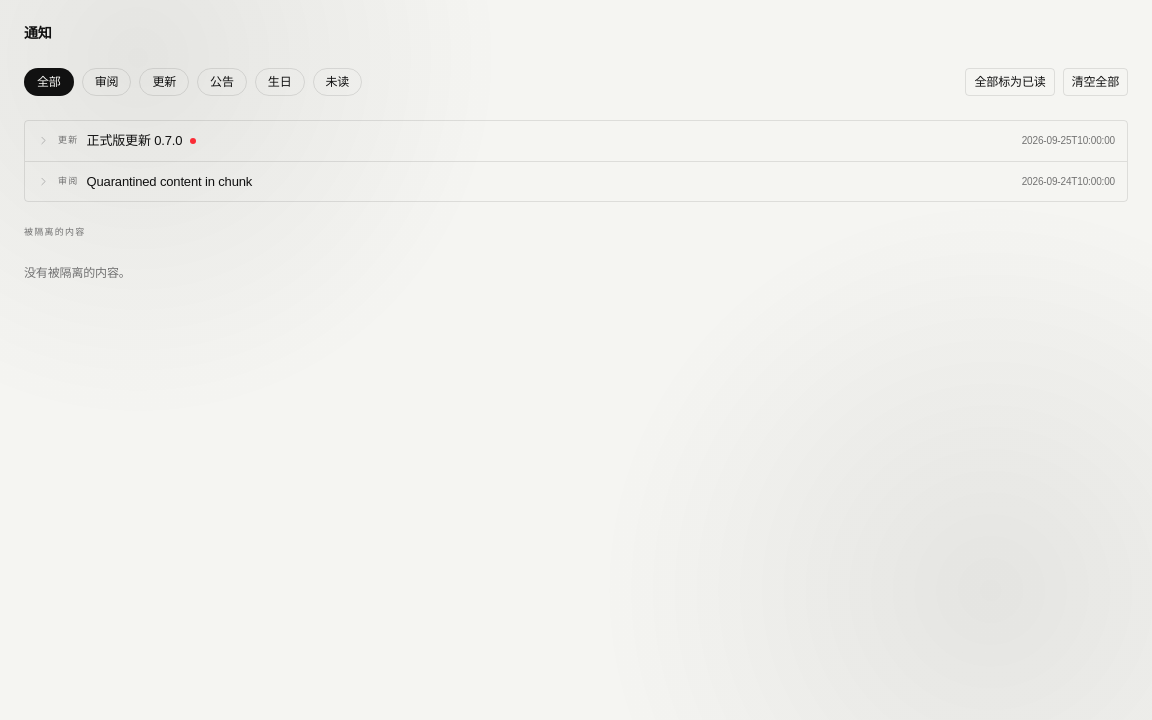
Notifications feed › filters by kind
This screenshot has width=1152, height=720.
Click the button with test id "filter-kind-review": (107, 82) [82, 68, 131, 96]
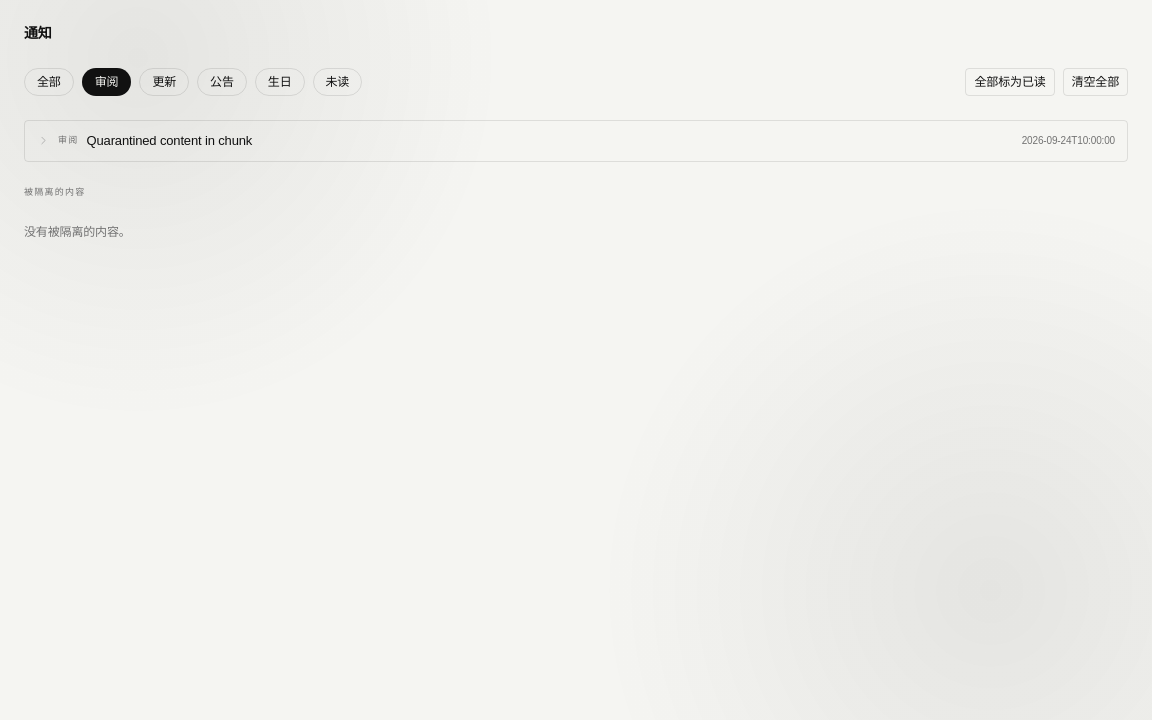
expect the button "正式版更新" is gone: met
